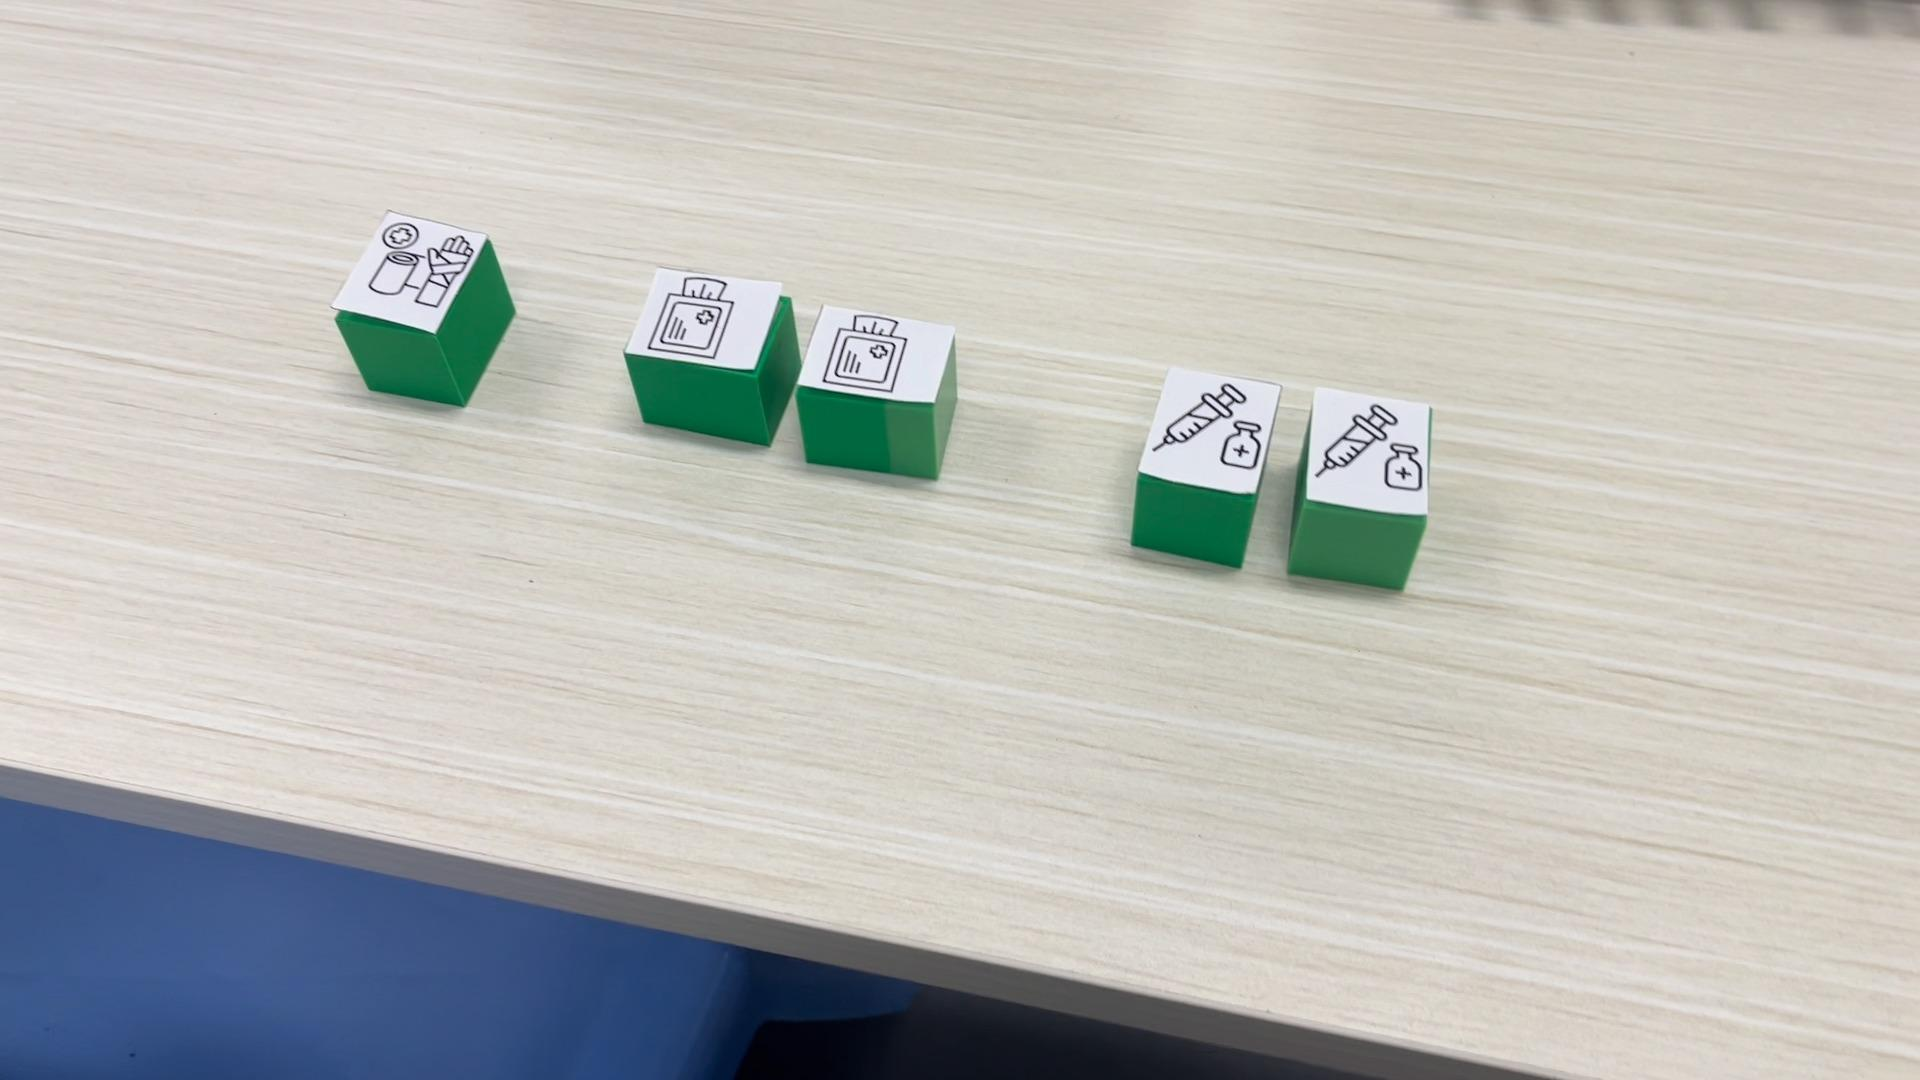Bandages: (331, 210, 516, 407)
Gauze: (626, 265, 804, 446), (796, 301, 961, 483)
antiseptic cream: (1129, 364, 1284, 578), (1284, 371, 1433, 591)
